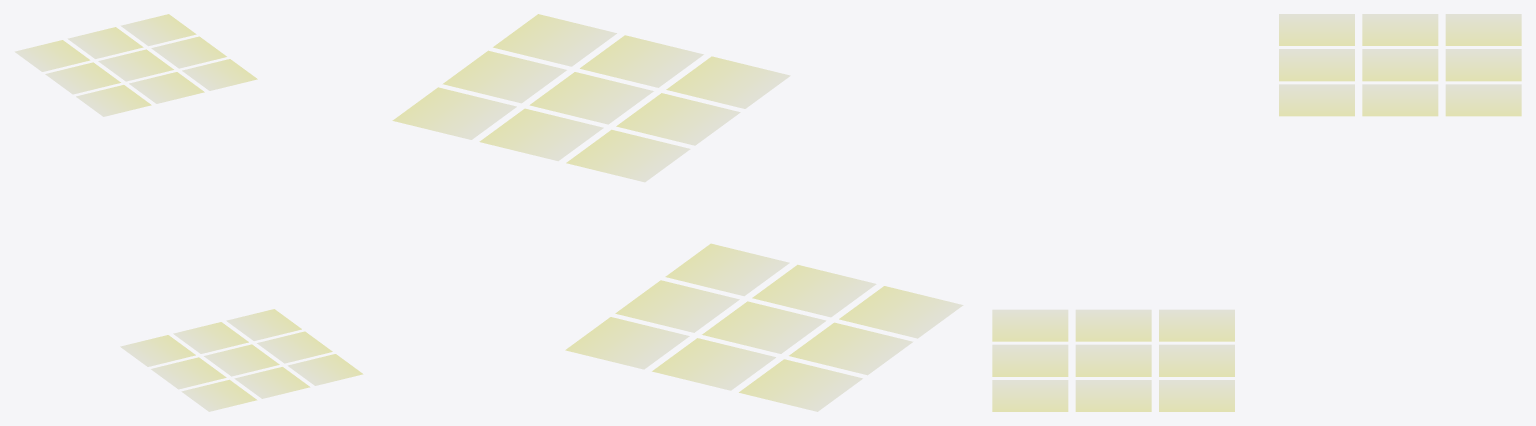
Rendered from SK_House_Lamp.FBX.
3 views of the same model, side by side, from view 1: azimuth 30°, elevation 25°; view 2: azimuth 150°, elevation 25°; view 3: azimuth 270°, elevation 25° (orthographic). The views are drawn at different scales.
Visible parts, largest first — view 1: SK_House_Lamp; view 2: SK_House_Lamp; view 3: SK_House_Lamp.
Part boxes in pixels (x1,y1,x2,y2): SK_House_Lamp: (14, 14, 363, 411); SK_House_Lamp: (392, 14, 963, 411); SK_House_Lamp: (992, 14, 1521, 411).
Size of the model in its own units: 175 by 235 by 382.
Materials: 1 (1 with a texture image).
